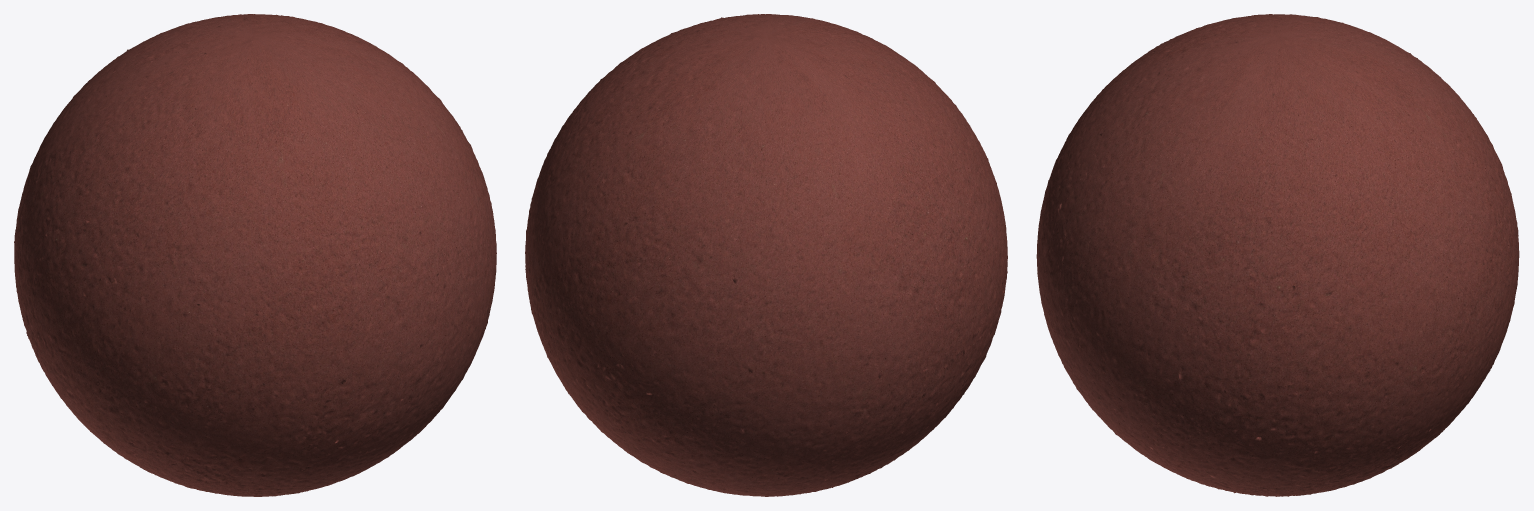
Rendered from rubberized_track_1k.gltf.
3 renders of one model, left to right at view 1: azimuth 30°, elevation 25°; view 2: azimuth 150°, elevation 25°; view 3: azimuth 270°, elevation 25°, orthographic.
Parts seen in each view (by area): view 1: sphere_gltf; view 2: sphere_gltf; view 3: sphere_gltf.
Boxes of the visible parts, x1,y1,x2,y2 form: sphere_gltf: [14, 14, 496, 496]; sphere_gltf: [525, 14, 1007, 496]; sphere_gltf: [1036, 14, 1519, 496].
Bounding box in the file's own units: 2 × 2 × 2.
Materials: 1 (1 with a texture image).
